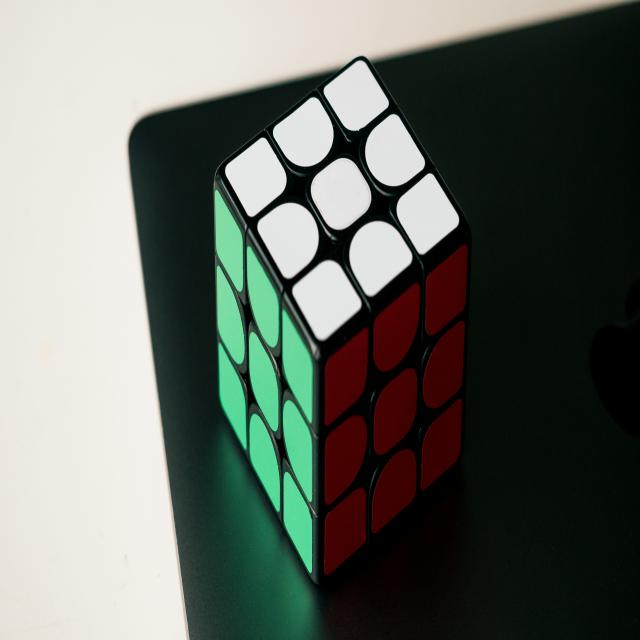Cubo-Resuelto: (214, 57, 471, 583)
